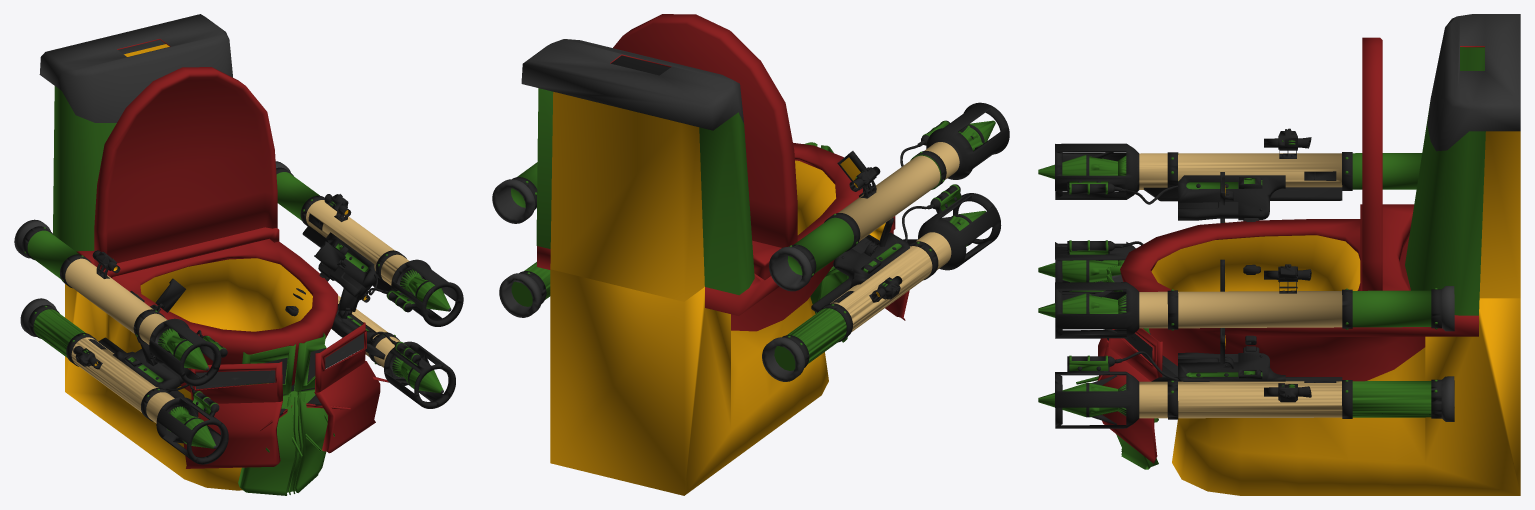
The model's file is toilet_02.glb.
3 renders of one model, left to right at view 1: azimuth 30°, elevation 25°; view 2: azimuth 150°, elevation 25°; view 3: azimuth 270°, elevation 25°, orthographic. The views are drawn at different scales.
Parts seen in each view (by area): view 1: toilet_02; view 2: toilet_02; view 3: toilet_02.
Boxes of the visible parts, left/top/right/bottom form: toilet_02: left=14, top=14, right=463, bottom=495; toilet_02: left=492, top=14, right=1009, bottom=495; toilet_02: left=1038, top=14, right=1520, bottom=495.
Size of the model in its own units: 1.2 by 1.4 by 1.48.
